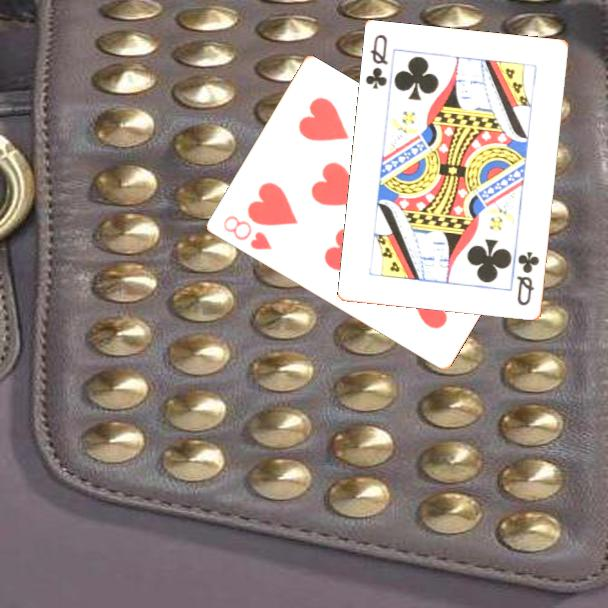c12: (362, 31, 391, 92), (514, 249, 542, 309)
h08: (219, 212, 274, 253)
